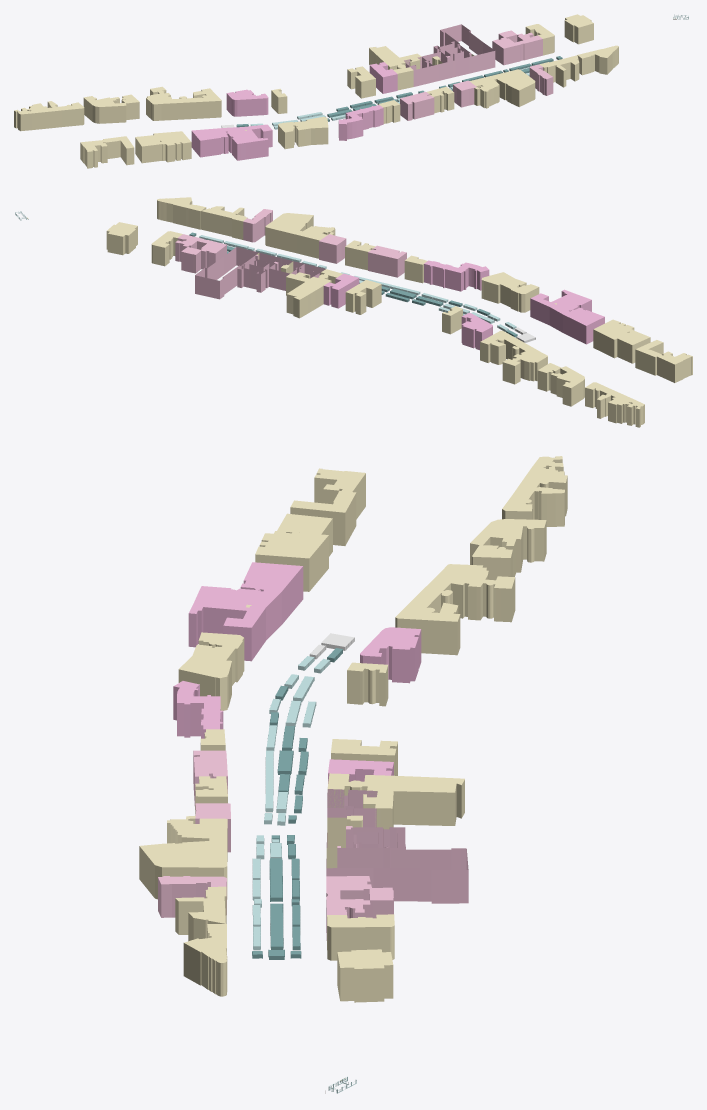
3 views of the same model, one above another, from view 1: azimuth 30°, elevation 25°; view 2: azimuth 150°, elevation 25°; view 3: azimuth 270°, elevation 25° (orthographic). The views are drawn at different scales.
Parts seen in each view (by area): view 1: Object_10, Object_38, Object_29, Object_8, Object_14, Object_27, Object_25, Object_42, Object_13, Object_24, Object_9, Object_26 (+19 smaller); view 2: Object_10, Object_38, Object_29, Object_8, Object_25, Object_27, Object_42, Object_14, Object_26, Object_13, Object_9, Object_33 (+18 smaller); view 3: Object_10, Object_38, Object_8, Object_25, Object_29, Object_27, Object_12, Object_16, Object_9, Object_13, Object_15, Object_14 (+13 smaller).
Part boxes in pixels (left/top/right/bottom): Object_10: left=404, top=24, right=495, bottom=86; Object_38: left=191, top=124, right=272, bottom=160; Object_29: left=469, top=69, right=535, bottom=108; Object_8: left=150, top=86, right=221, bottom=120; Object_14: left=492, top=30, right=542, bottom=65; Object_27: left=278, top=116, right=328, bottom=149; Object_25: left=369, top=46, right=421, bottom=90; Object_42: left=338, top=105, right=383, bottom=140; Object_13: left=83, top=96, right=126, bottom=123; Object_24: left=226, top=89, right=268, bottom=116; Object_9: left=32, top=101, right=84, bottom=128; Object_26: left=577, top=45, right=618, bottom=75; Object_10: left=195, top=247, right=325, bottom=299; Object_38: left=530, top=289, right=604, bottom=344; Object_29: left=265, top=213, right=335, bottom=258; Object_8: left=480, top=330, right=541, bottom=384; Object_25: left=286, top=269, right=342, bottom=318; Object_27: left=481, top=272, right=539, bottom=312; Object_42: left=424, top=260, right=489, bottom=291; Object_14: left=175, top=234, right=226, bottom=273; Object_26: left=157, top=197, right=206, bottom=229; Object_13: left=550, top=366, right=584, bottom=406; Object_9: left=585, top=382, right=625, bottom=423; Object_33: left=368, top=245, right=406, bottom=277; Object_10: left=326, top=789, right=468, bottom=903; Object_38: left=188, top=562, right=303, bottom=661; Object_8: left=395, top=571, right=515, bottom=655; Object_25: left=327, top=773, right=464, bottom=829; Object_29: left=139, top=815, right=227, bottom=899; Object_27: left=178, top=632, right=244, bottom=710; Object_12: left=337, top=949, right=393, bottom=1002; Object_16: left=255, top=531, right=328, bottom=591; Object_9: left=502, top=474, right=567, bottom=526; Object_13: left=470, top=519, right=546, bottom=576; Object_15: left=327, top=914, right=394, bottom=960; Object_14: left=326, top=876, right=393, bottom=940.
Size of the model in its own units: 972 by 25 by 290.
